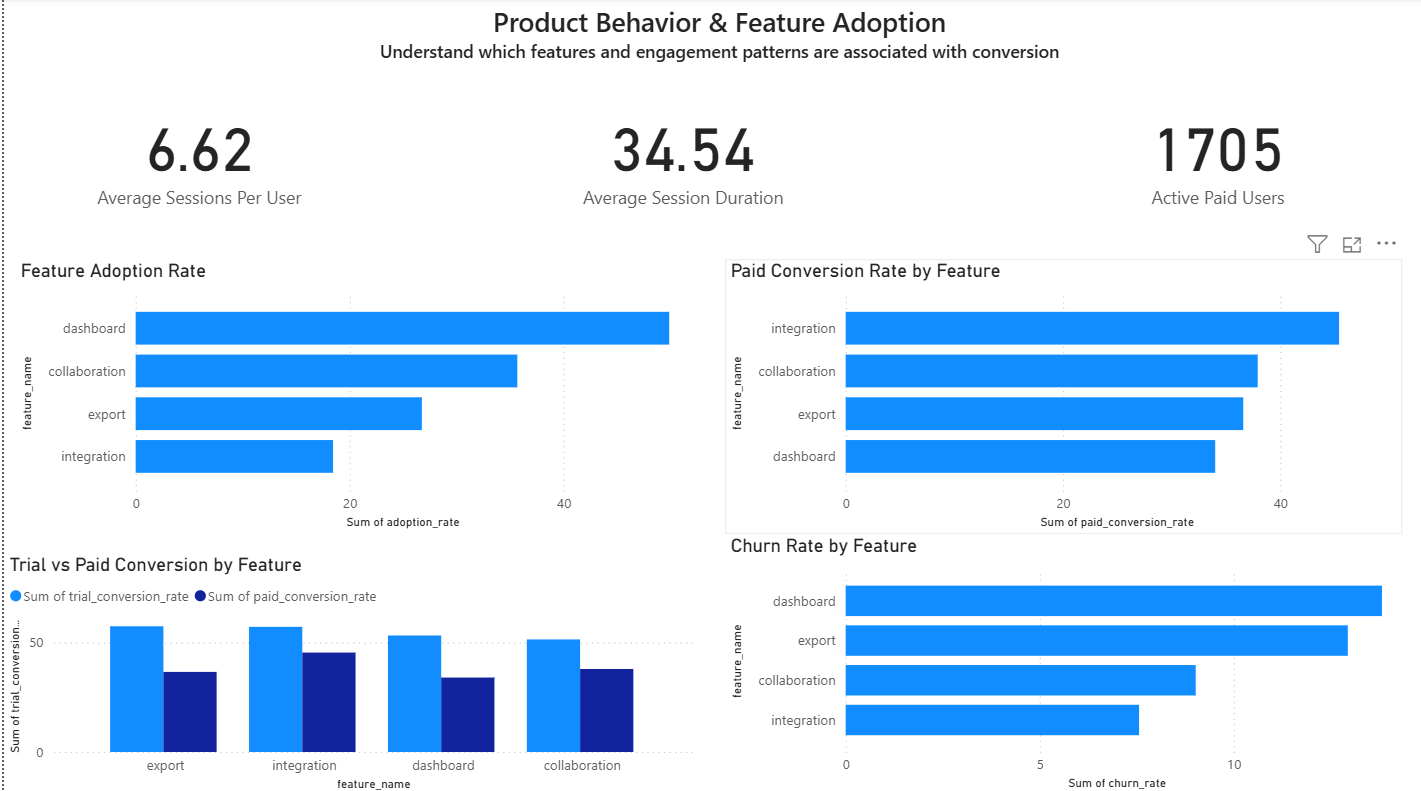

This screenshot's page, from the dashboard's own definition file:
{"tool":"powerbi","page":{"name":"Product Behavior","canvas":[1280,720],"ordinal":1},"visuals":[{"type":"textbox","box":[10,0,1270.2,81.5],"z":0},{"type":"clusteredBarChart","title":"Feature Adoption Rate","fields":{"Category":["feature_adoption.feature_name"],"Y":["Sum(feature_adoption.adoption_rate)"]},"box":[10,235.7,603.1,248.3],"z":1},{"type":"clusteredBarChart","title":"Paid Conversion Rate by Feature","fields":{"Category":["feature_conversion_summary.feature_name"],"Y":["Sum(feature_conversion_summary.paid_conversion_rate)"]},"box":[650.8,235.7,610.7,248.3],"z":2},{"type":"clusteredColumnChart","title":"Trial vs Paid Conversion by Feature","fields":{"Category":["feature_conversion_summary.feature_name"],"Y":["Sum(feature_conversion_summary.trial_conversion_rate)","Sum(feature_conversion_summary.paid_conversion_rate)"]},"box":[0,500.3,627,219.4],"z":3},{"type":"clusteredBarChart","title":"Churn Rate by Feature","fields":{"Category":["feature_conversion_summary.feature_name"],"Y":["Sum(feature_conversion_summary.churn_rate)"]},"box":[650.8,484,610.7,235.7],"z":4},{"type":"card","fields":{"Values":["user_analysis_master.Average Sessions Per User"]},"box":[10,72.7,332.3,135.4],"z":5},{"type":"card","fields":{"Values":["user_analysis_master.Average Session Duration"]},"box":[446.3,73.4,332.6,135.7],"z":6},{"type":"card","fields":{"Values":["user_analysis_master.Active Paid Users"]},"box":[929.2,72.7,332.3,135.4],"z":7}]}

Visuals, with their boxes in screenshot pixels (x1, y1, x2, y2), scaled from the page's 1280x720 canvas onto the 1421x791 screenshot:
textbox: 11, 0, 1420, 90
"Feature Adoption Rate" clusteredBarChart: 11, 259, 681, 532
"Paid Conversion Rate by Feature" clusteredBarChart: 722, 259, 1400, 532
"Trial vs Paid Conversion by Feature" clusteredColumnChart: 0, 550, 696, 790
"Churn Rate by Feature" clusteredBarChart: 722, 532, 1400, 790
card - user_analysis_master.Average Sessions Per User: 11, 80, 380, 229
card - user_analysis_master.Average Session Duration: 495, 81, 865, 230
card - user_analysis_master.Active Paid Users: 1032, 80, 1400, 229
